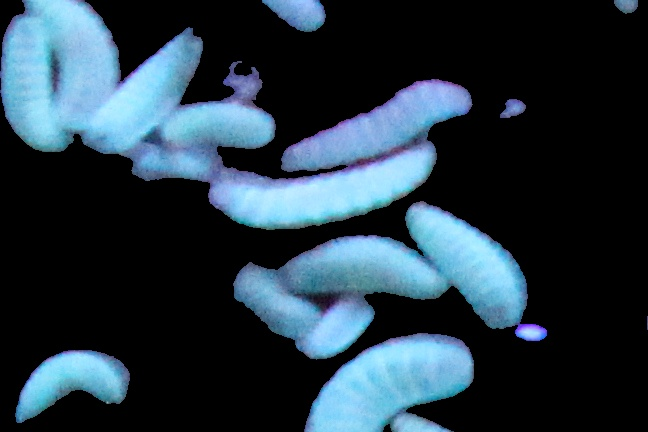larvae: (289, 336, 479, 432), (414, 204, 546, 336), (295, 81, 464, 165), (89, 30, 200, 149), (209, 168, 430, 224), (27, 2, 117, 125), (3, 16, 65, 151), (294, 244, 454, 288), (10, 352, 134, 408), (228, 260, 317, 333), (164, 101, 279, 147), (293, 299, 382, 357)
